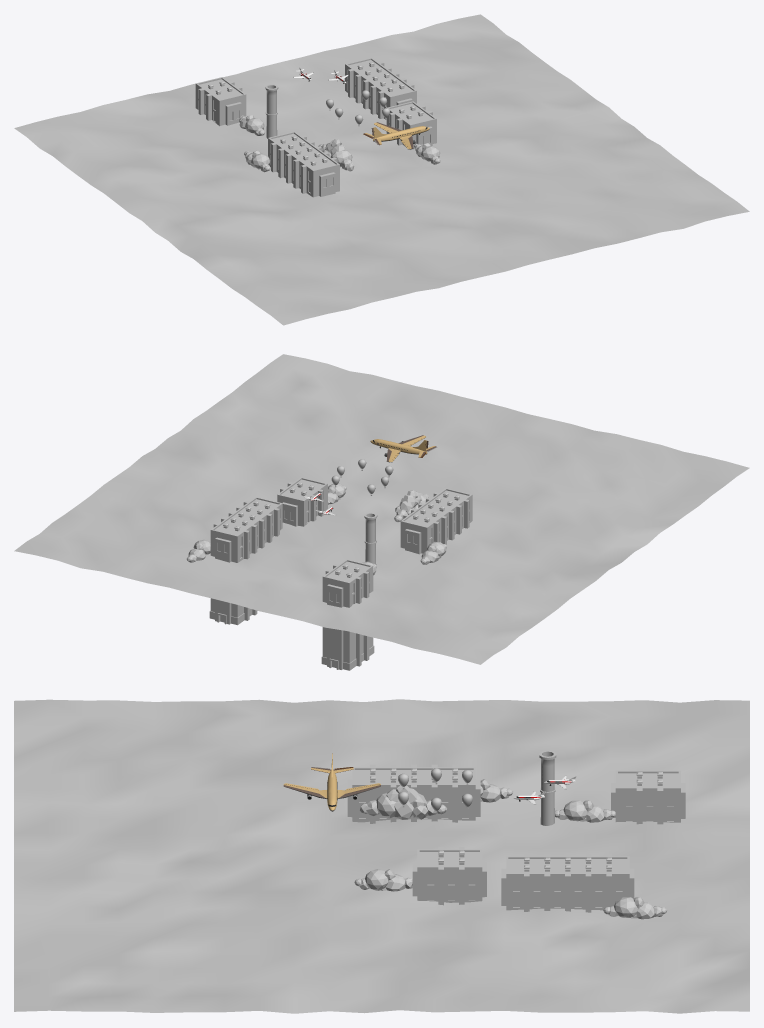
Rendered from changjing8_5.fbx.
The picture shows the model from 3 angles, top to bottom: view 1: azimuth 30°, elevation 25°; view 2: azimuth 150°, elevation 25°; view 3: azimuth 270°, elevation 25°; orthographic projection. The views are drawn at different scales.
Parts seen in each view (by area): view 1: tiankong1, jianzhuwu, jianzhuwu2, FeiJi005; view 2: tiankong1, jianzhuwu2, jianzhuwu, FeiJi005; view 3: tiankong1, jianzhuwu, jianzhuwu2, FeiJi005.
Part boxes in pixels (left/top/right/bottom): tiankong1: left=14, top=14, right=749, bottom=325; jianzhuwu: left=244, top=84, right=440, bottom=197; jianzhuwu2: left=195, top=57, right=416, bottom=135; FeiJi005: left=363, top=122, right=429, bottom=149; tiankong1: left=14, top=354, right=749, bottom=664; jianzhuwu2: left=186, top=497, right=376, bottom=670; jianzhuwu: left=277, top=477, right=472, bottom=564; FeiJi005: left=370, top=435, right=436, bottom=462; tiankong1: left=14, top=699, right=749, bottom=1013; jianzhuwu: left=347, top=750, right=556, bottom=905; jianzhuwu2: left=501, top=768, right=685, bottom=919; FeiJi005: left=283, top=753, right=380, bottom=811.
Size of the model in its own units: 34312 by 8731 by 34312.
